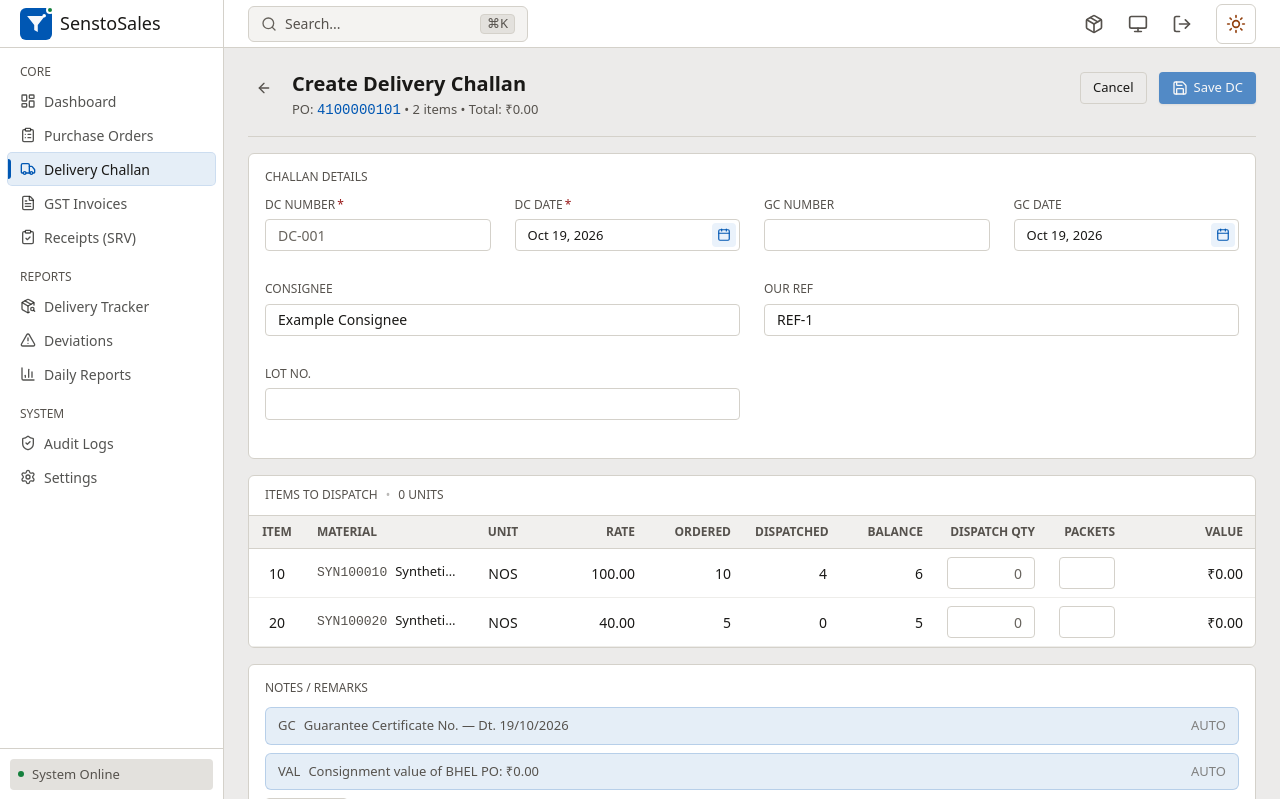
/dc/create (SPEC-18 PR 2) › shows the API's collision message in place when the save is refused (INV-22)
The width and height of the screenshot is (1280, 799).
In the field labelled "DC Number*": {"x": 378, "y": 235} [265,219,490,251], type "17"
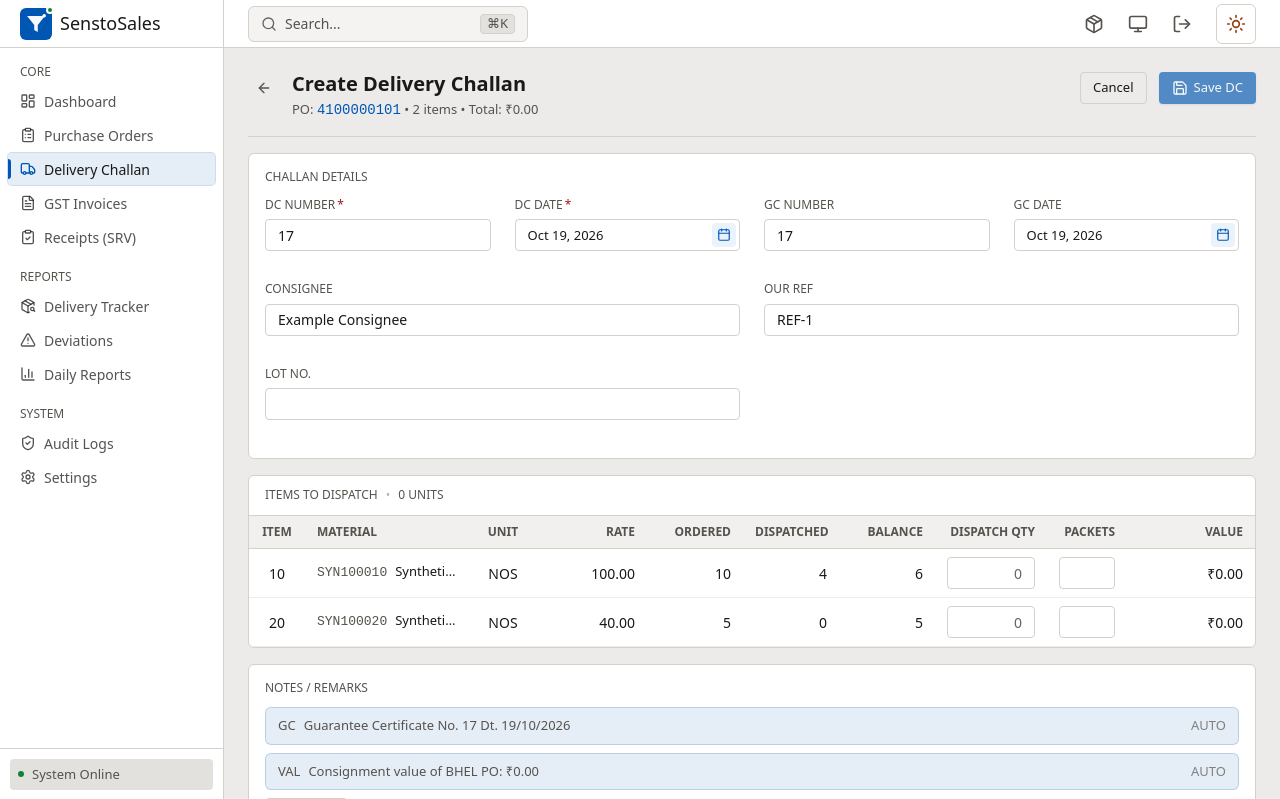
Replace the text in the field labelled "DC Date*" with "02/05/2025": {"x": 627, "y": 235} [514,219,740,251]
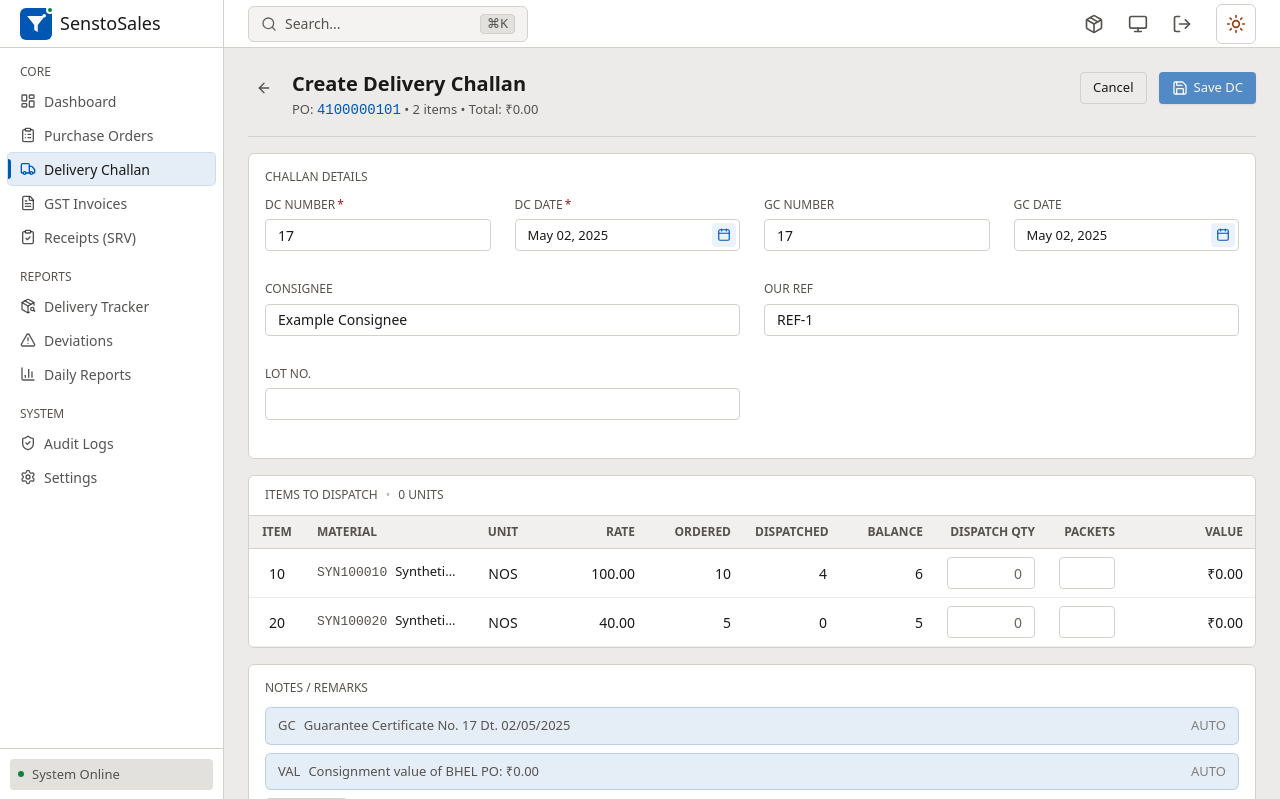
In the field named "Dispatch qty of item 20": {"x": 991, "y": 622} [947,606,1035,638], type "1"
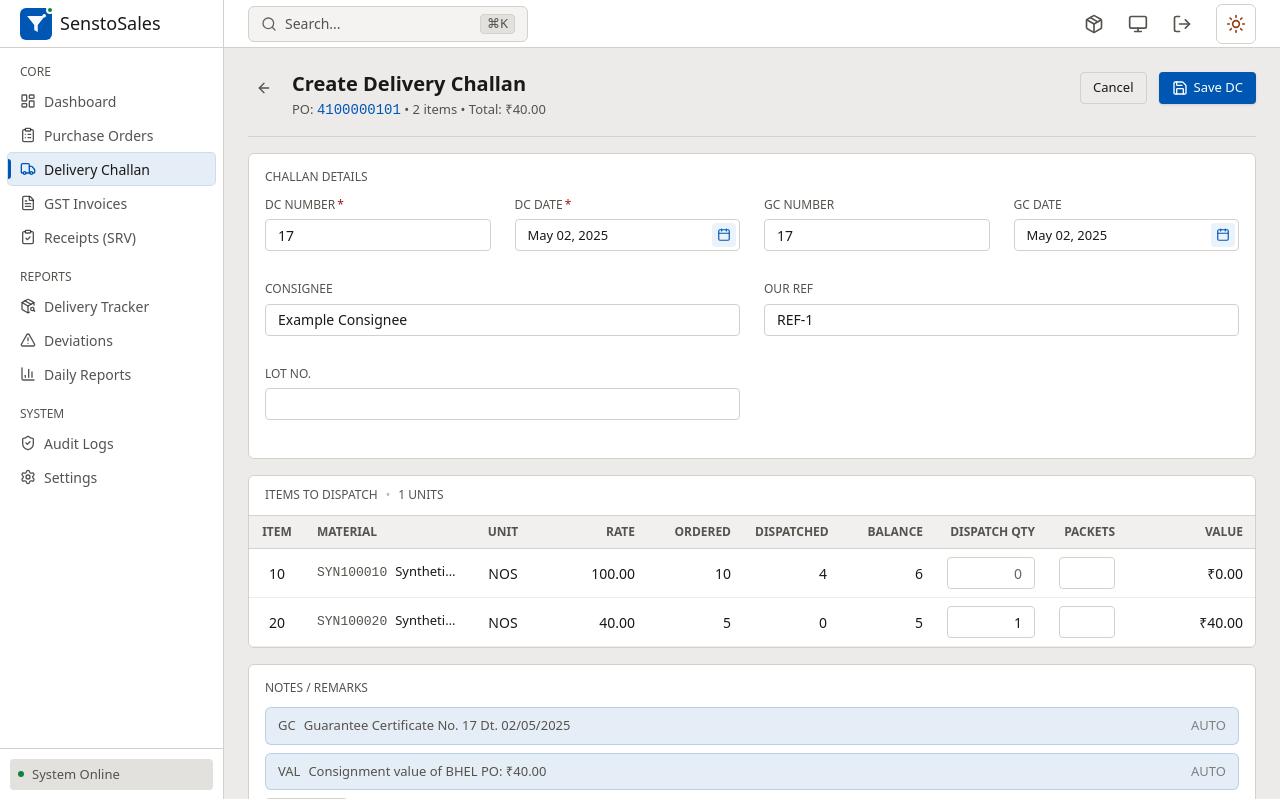
Now the button "Save DC" is enabled
Click the button "Save DC": {"x": 1207, "y": 88} [1158,72,1256,104]
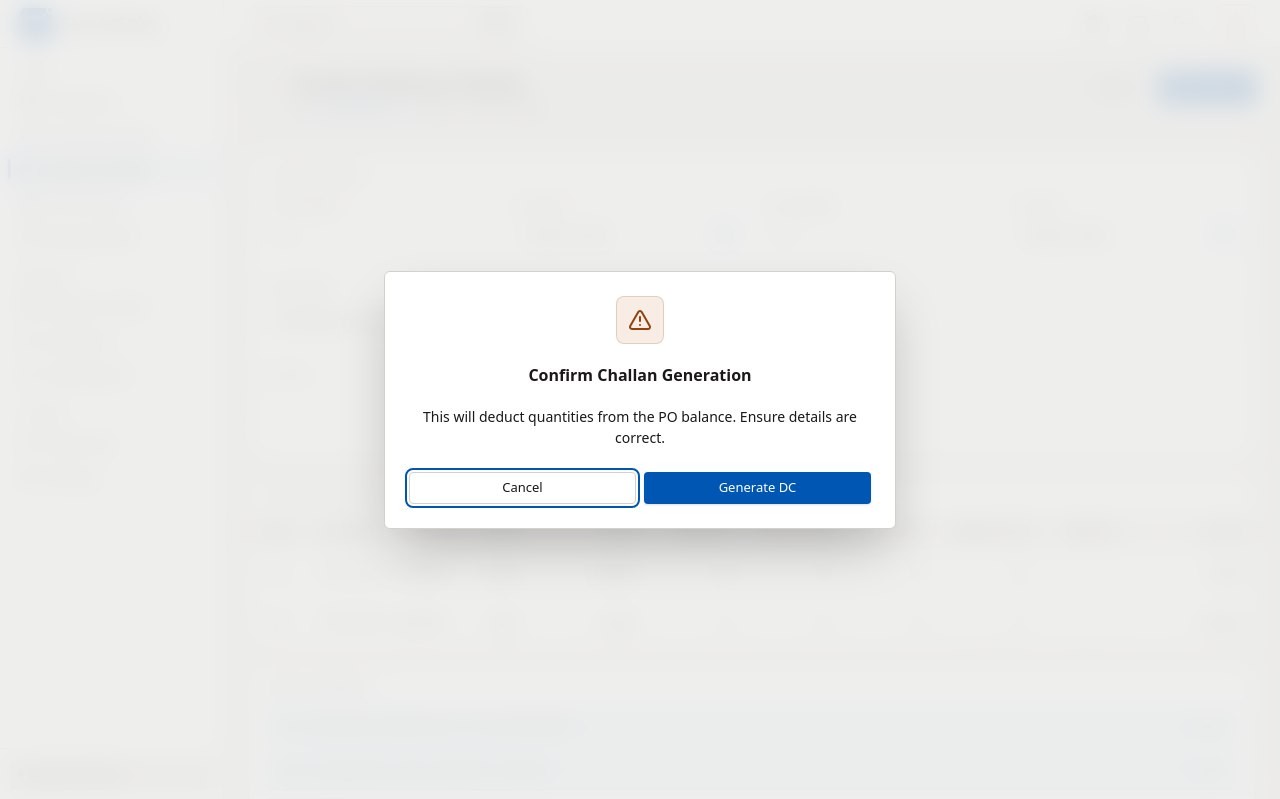
Click the button "Generate DC": {"x": 758, "y": 488} [644,472,871,504]
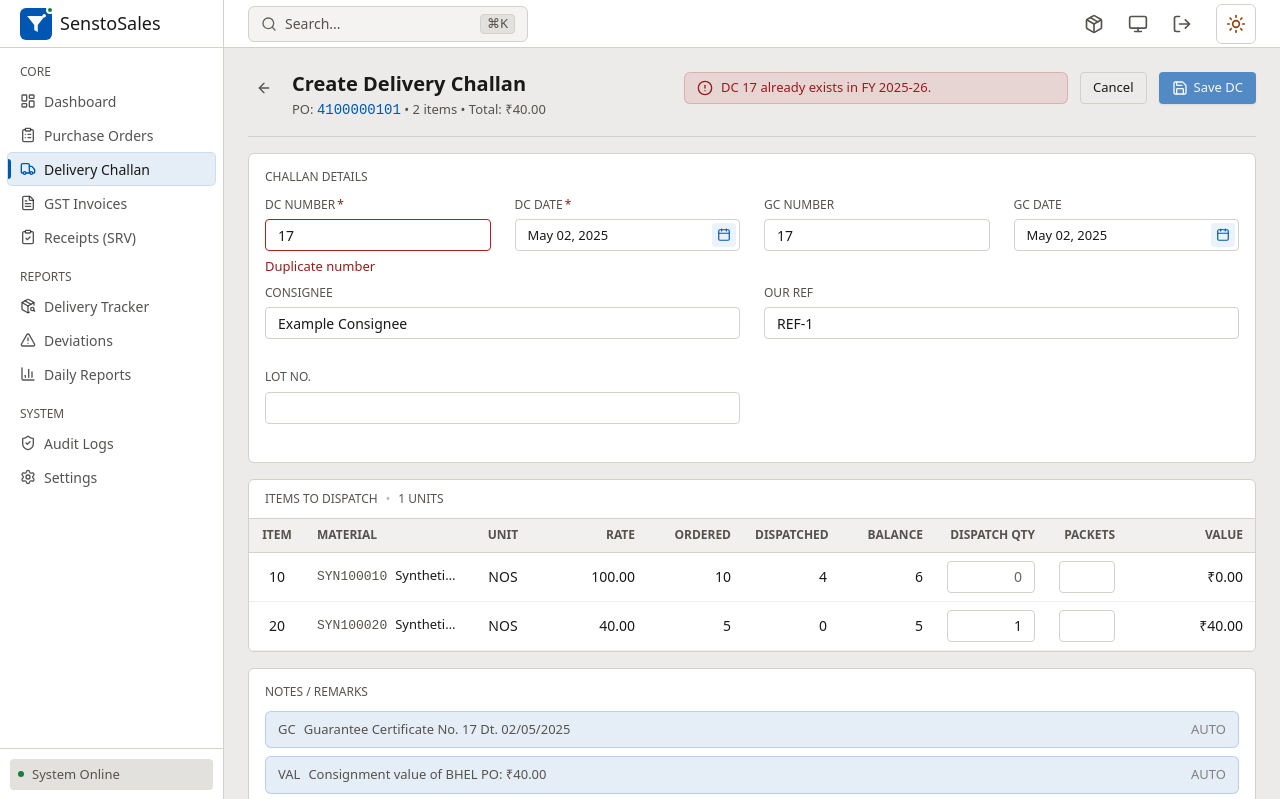
Now the text "DC 17 already exists in FY 2025-26." is shown, box [684,72,1068,104]
Now the text "Duplicate number" is shown, box [265,257,375,275]
Now the dialog is gone
